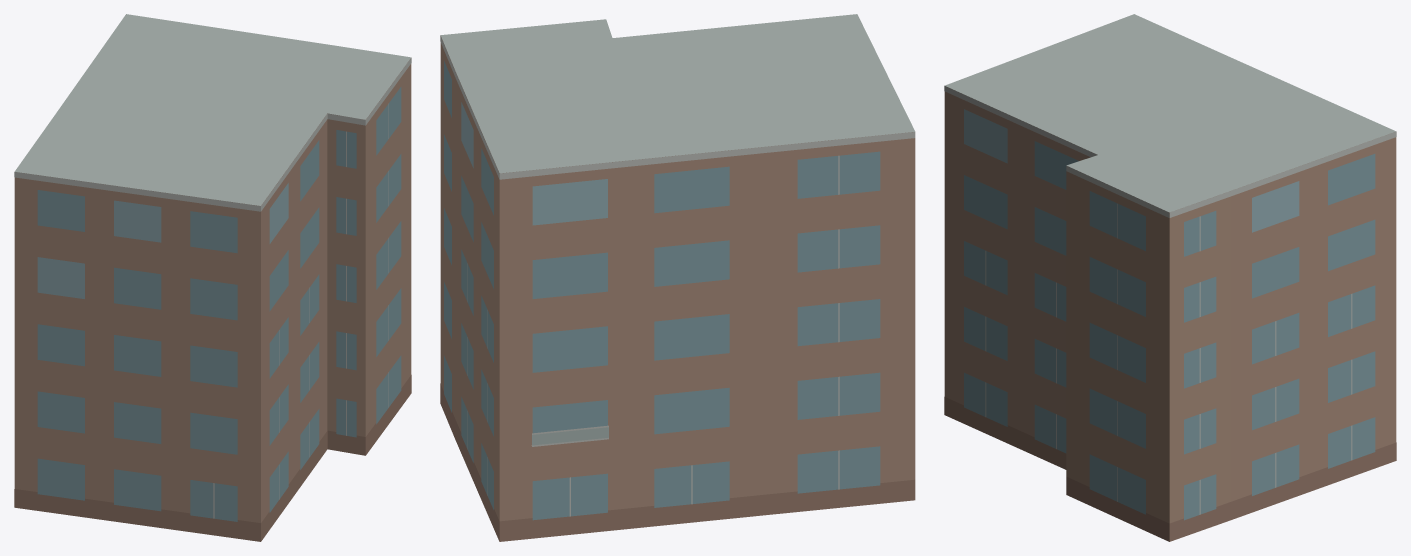
File: survey-upis-32586051.glb
3 views of the same model, side by side, from view 1: azimuth 30°, elevation 25°; view 2: azimuth 150°, elevation 25°; view 3: azimuth 270°, elevation 25° (orthographic). The views are drawn at different scales.
Visible parts, largest first — view 1: survey-upis-32586051.tmp; view 2: survey-upis-32586051.tmp; view 3: survey-upis-32586051.tmp.
Part boxes in pixels (<box>): survey-upis-32586051.tmp: <box>14,14,411,541</box>; survey-upis-32586051.tmp: <box>440,14,915,541</box>; survey-upis-32586051.tmp: <box>944,14,1396,541</box>.
Bounding box in the file's own units: 18.5 × 14.3 × 17.79.
